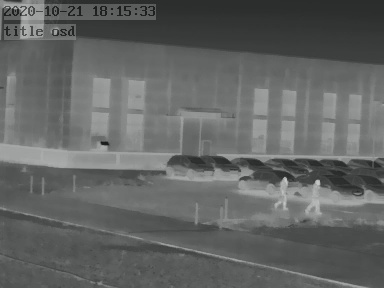person: (308, 179, 325, 212), (274, 175, 289, 208)
vehicle: (299, 174, 361, 204), (236, 168, 304, 189), (164, 153, 211, 179), (351, 172, 384, 202), (204, 153, 242, 177), (231, 154, 270, 172), (261, 155, 297, 170), (346, 156, 379, 170), (317, 156, 347, 170), (294, 156, 325, 169)
